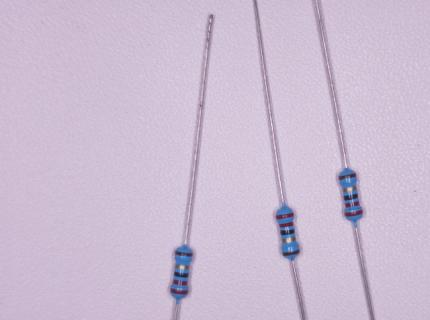Black band: (344, 193, 358, 201), (280, 229, 295, 235), (174, 272, 189, 277)
Brown band: (339, 173, 357, 180), (282, 249, 299, 256), (175, 251, 192, 257)
Gold band: (343, 186, 357, 193), (175, 264, 189, 270), (282, 237, 295, 243)
Red band: (344, 209, 364, 217), (170, 287, 189, 295), (275, 213, 294, 220), (344, 201, 360, 208), (173, 279, 188, 286), (279, 222, 294, 228)
